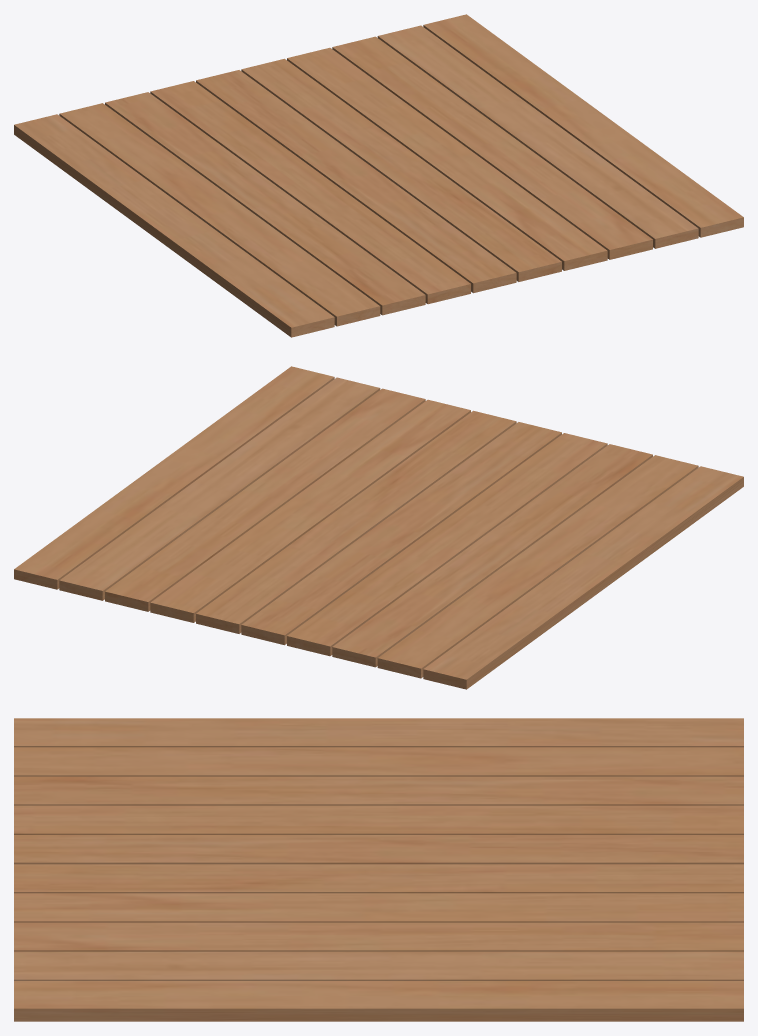
The model's file is WT floor kit.glb.
3 renders of one model, top to bottom at view 1: azimuth 30°, elevation 25°; view 2: azimuth 150°, elevation 25°; view 3: azimuth 270°, elevation 25°, orthographic. The views are drawn at different scales.
Parts seen in each view (by area): view 1: WT floor kit; view 2: WT floor kit; view 3: WT floor kit.
Boxes of the visible parts, x1,y1,x2,y2 form: WT floor kit: (14, 14, 743, 337); WT floor kit: (14, 366, 743, 689); WT floor kit: (14, 718, 743, 1021).
Bounding box in the file's own units: 1.46 × 0.3359 × 1.55.
Materials: 2 (1 with a texture image).
